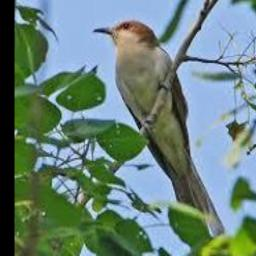Cuckoo: (92, 20, 227, 256)
